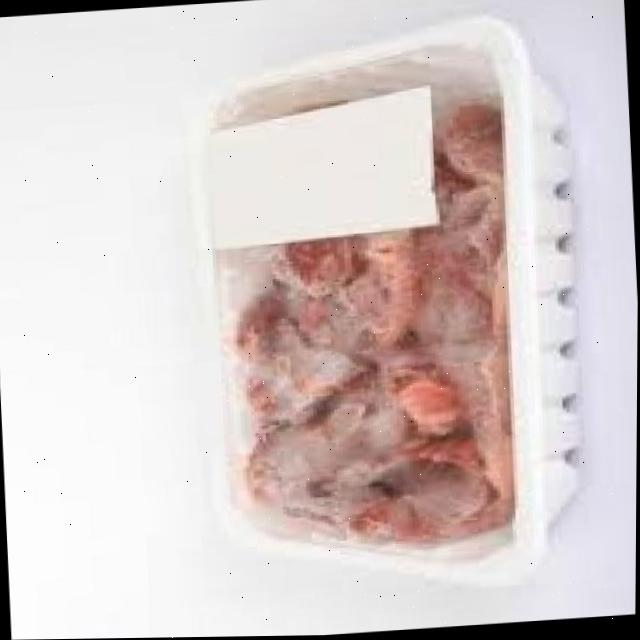Wet: (135, 22, 637, 603), (210, 230, 523, 532)
